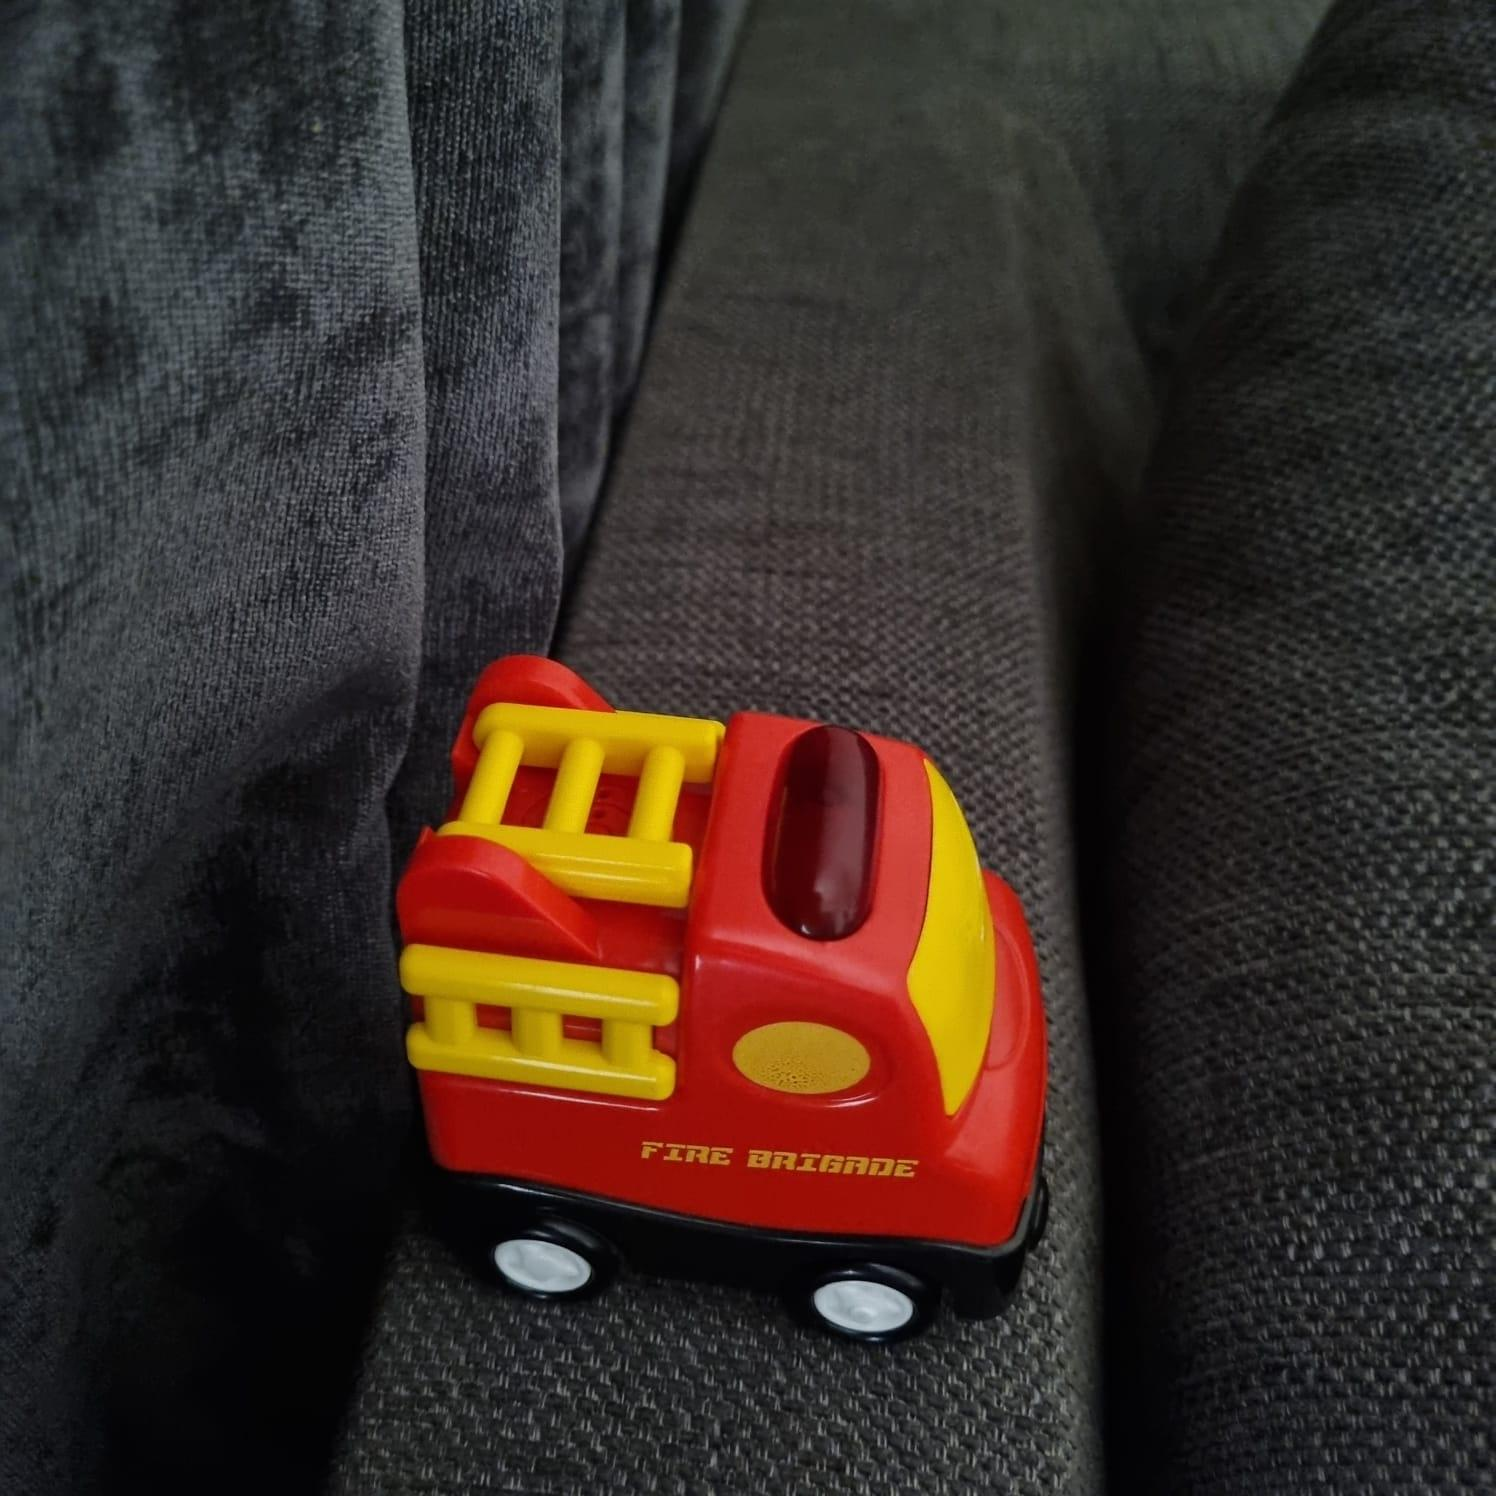firetruck_off: (404, 657, 1053, 1344)
